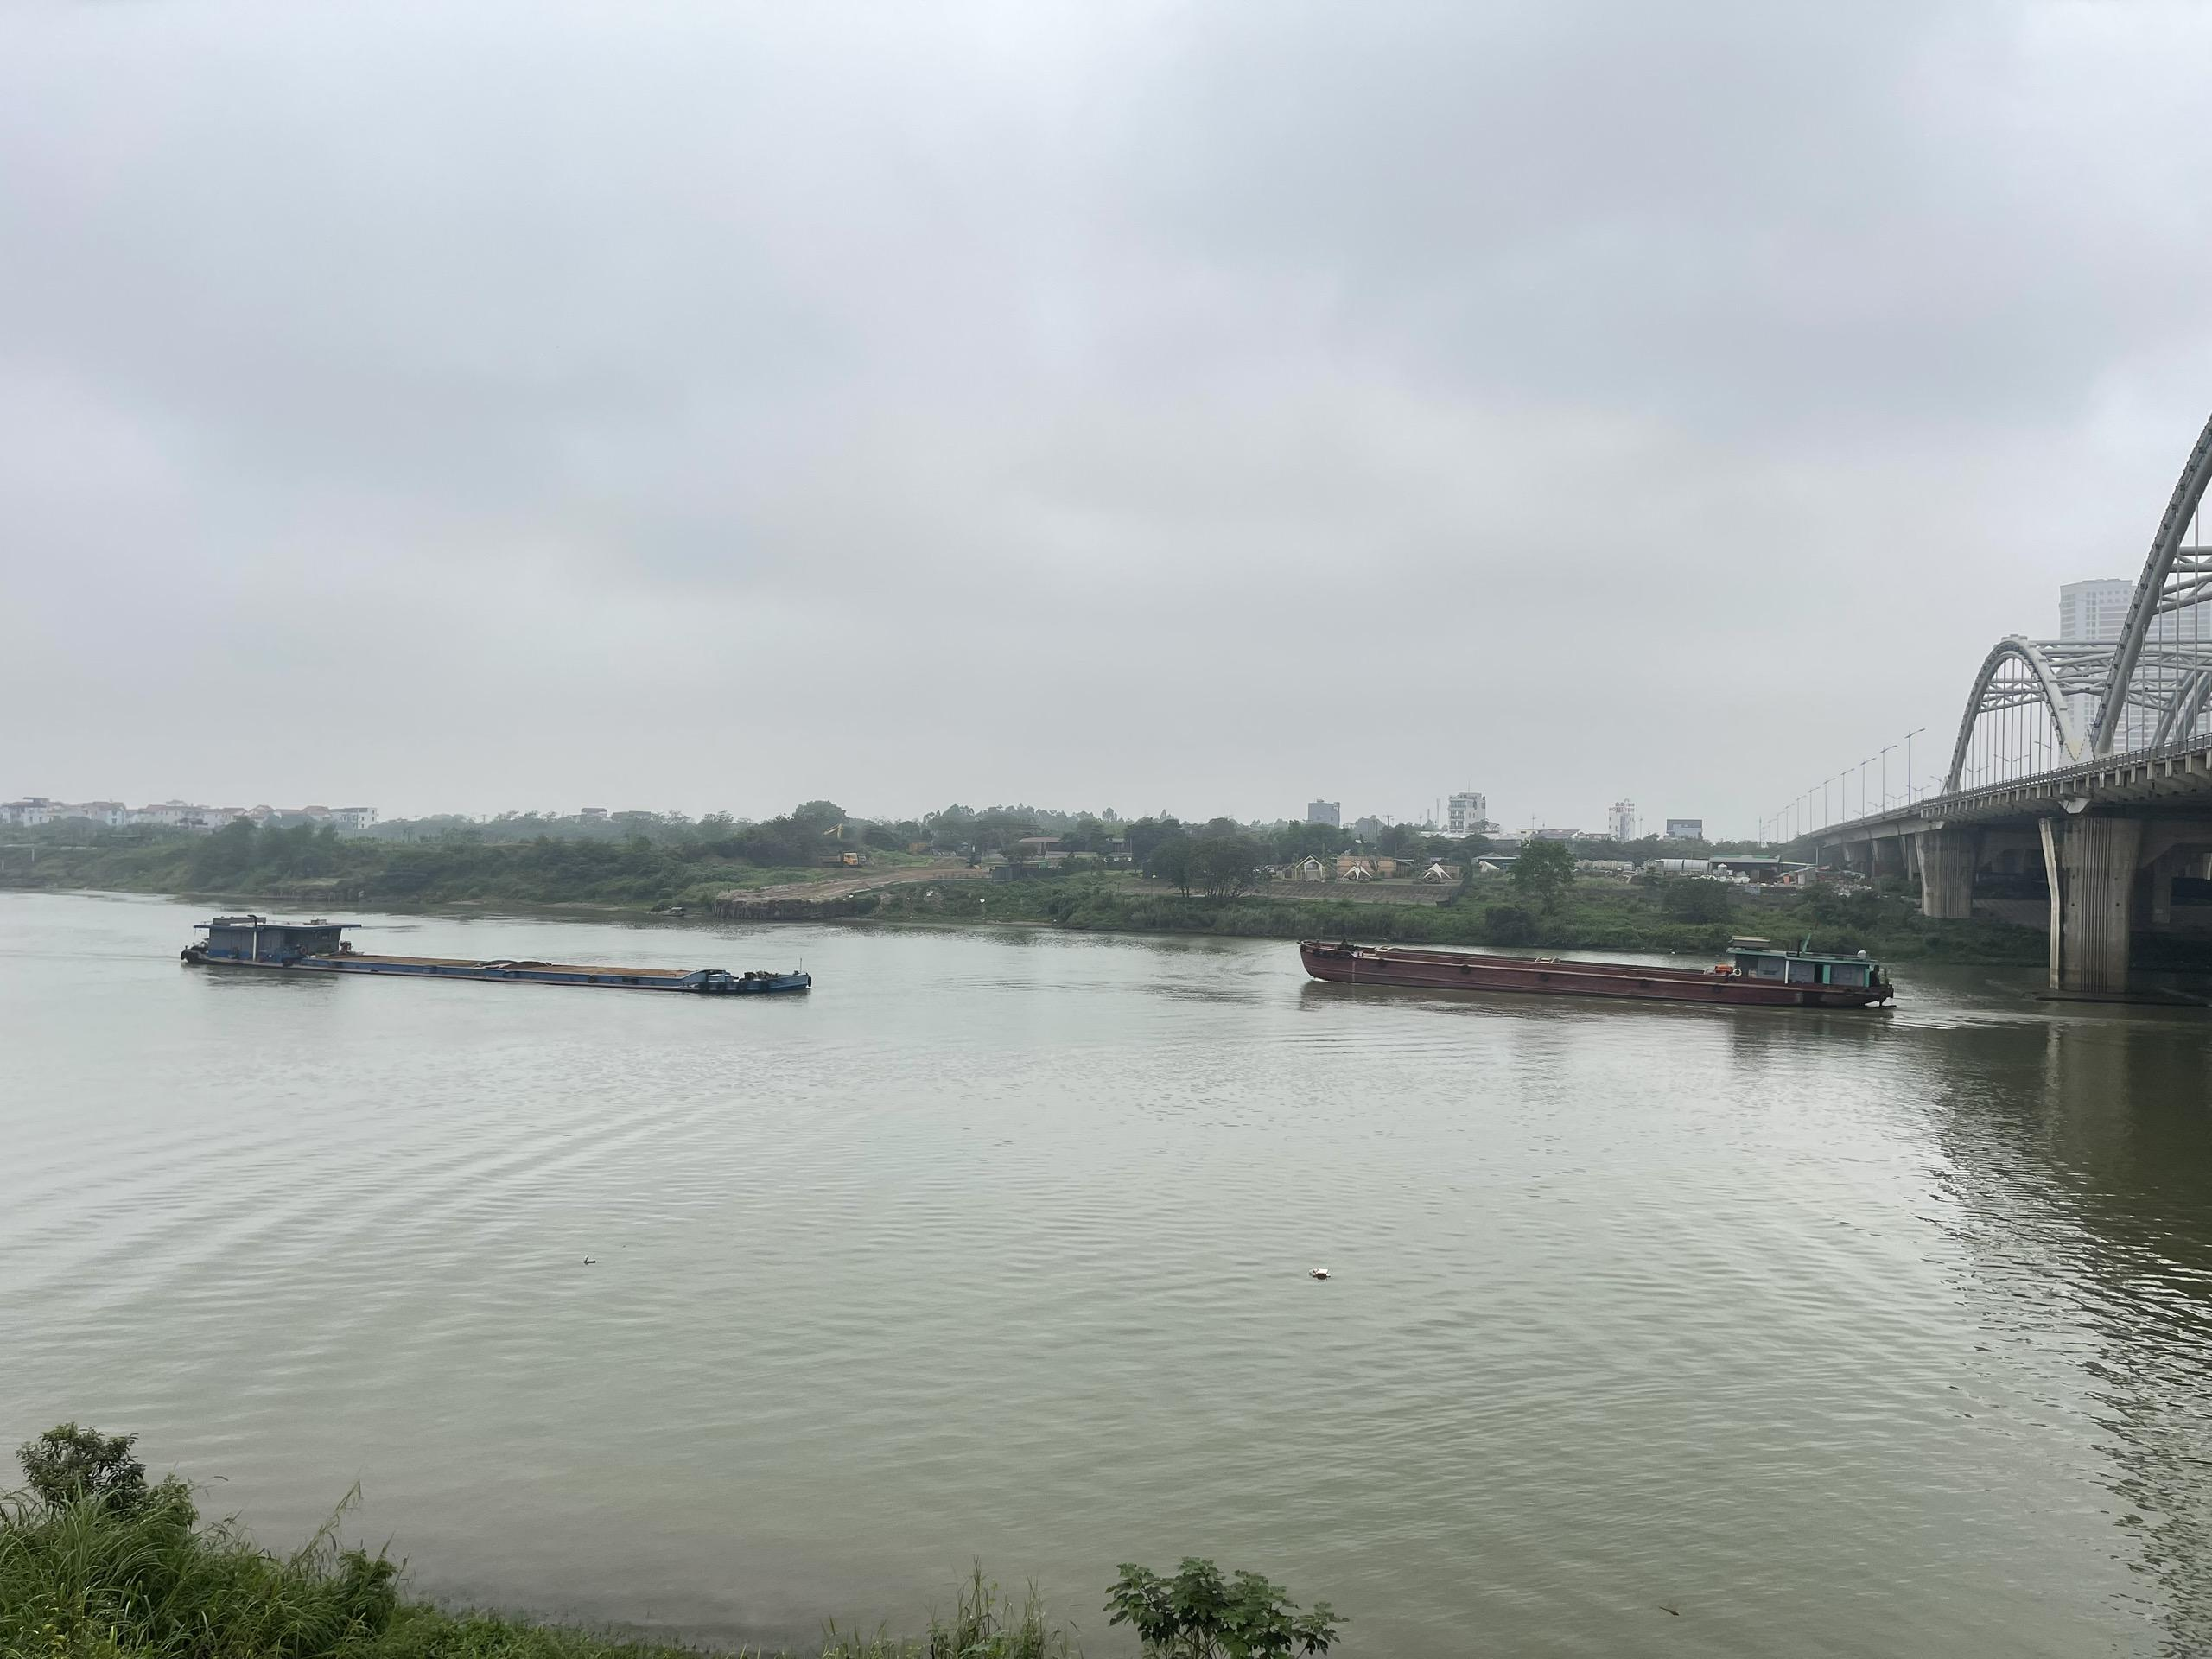Ship: (1296, 906, 1902, 1032), (181, 910, 824, 1019)
